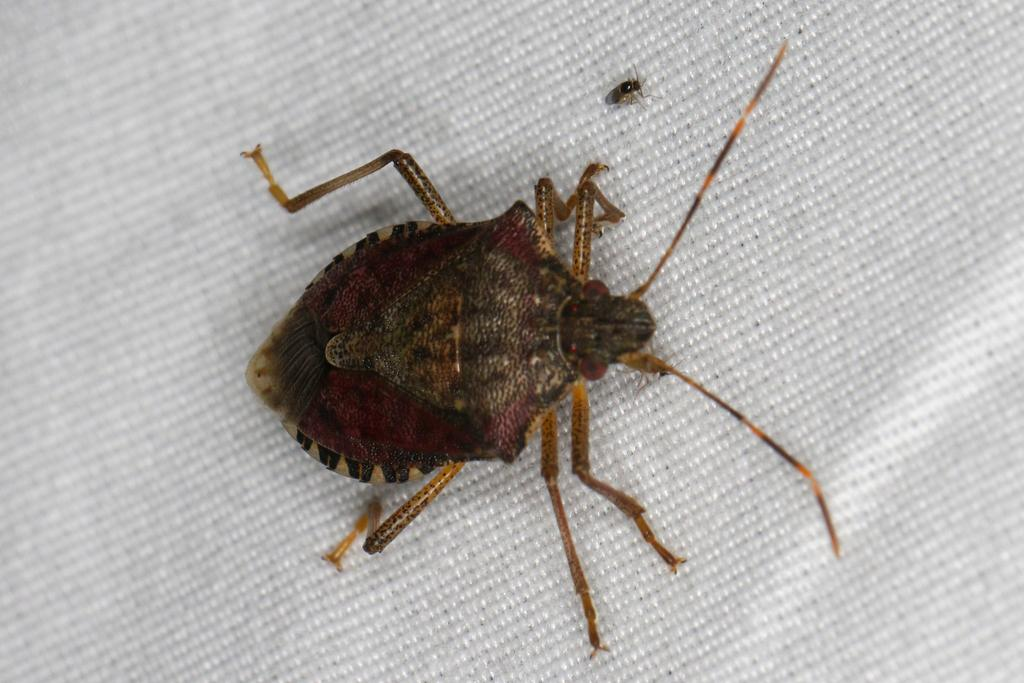stink_bugs: (155, 0, 891, 683)
